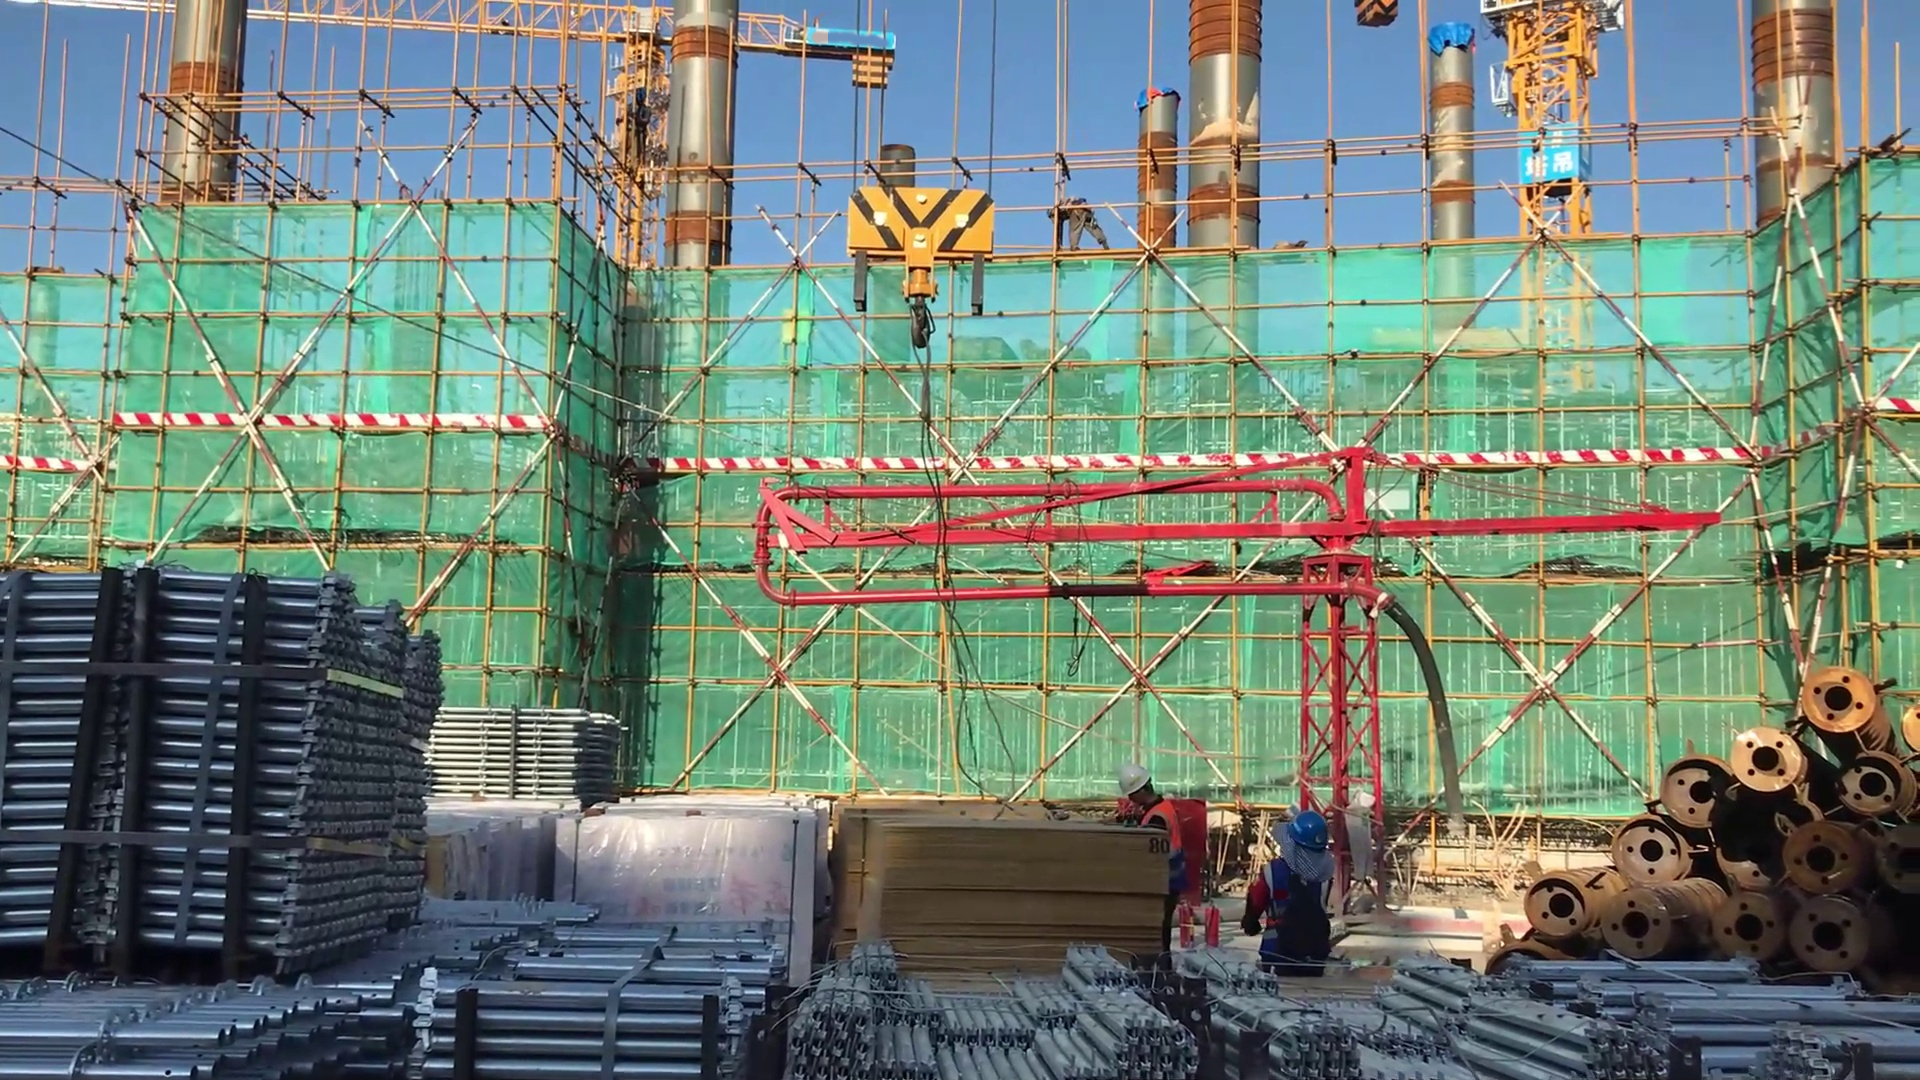board: (833, 799, 1168, 984)
helmet: (1280, 802, 1334, 856), (1116, 762, 1166, 811)
hook: (837, 164, 1019, 357)
person: (1241, 804, 1344, 983), (1118, 760, 1191, 985), (1041, 193, 1108, 260)
scaffold: (1, 577, 443, 958), (401, 877, 791, 1078), (1161, 945, 1650, 1080), (791, 927, 1203, 1080), (1529, 951, 1920, 1080), (1, 969, 402, 1080), (415, 703, 626, 805)
slogan: (1519, 124, 1595, 184)
vest: (1255, 850, 1342, 972), (1137, 799, 1190, 908)
